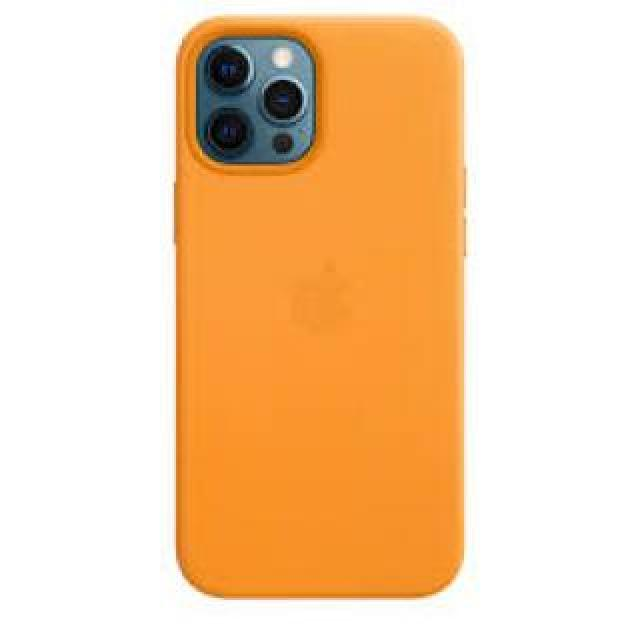smart phone: (147, 0, 505, 597)
